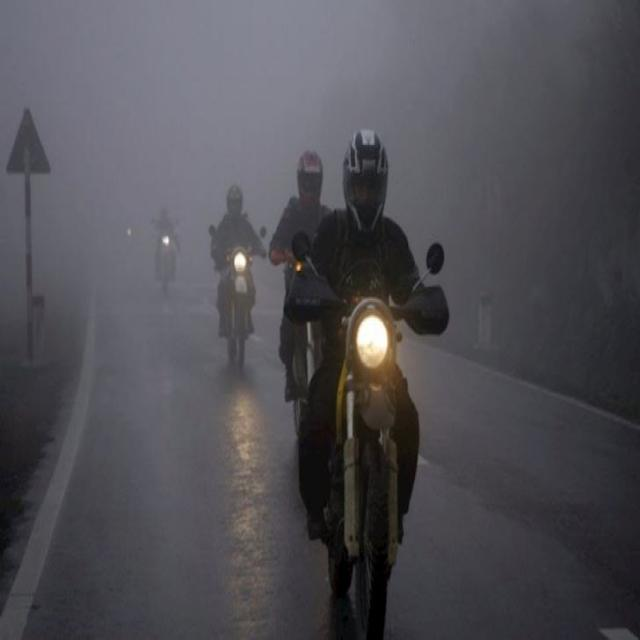Motobike: (286, 228, 438, 640), (202, 218, 274, 372), (150, 227, 180, 297)
